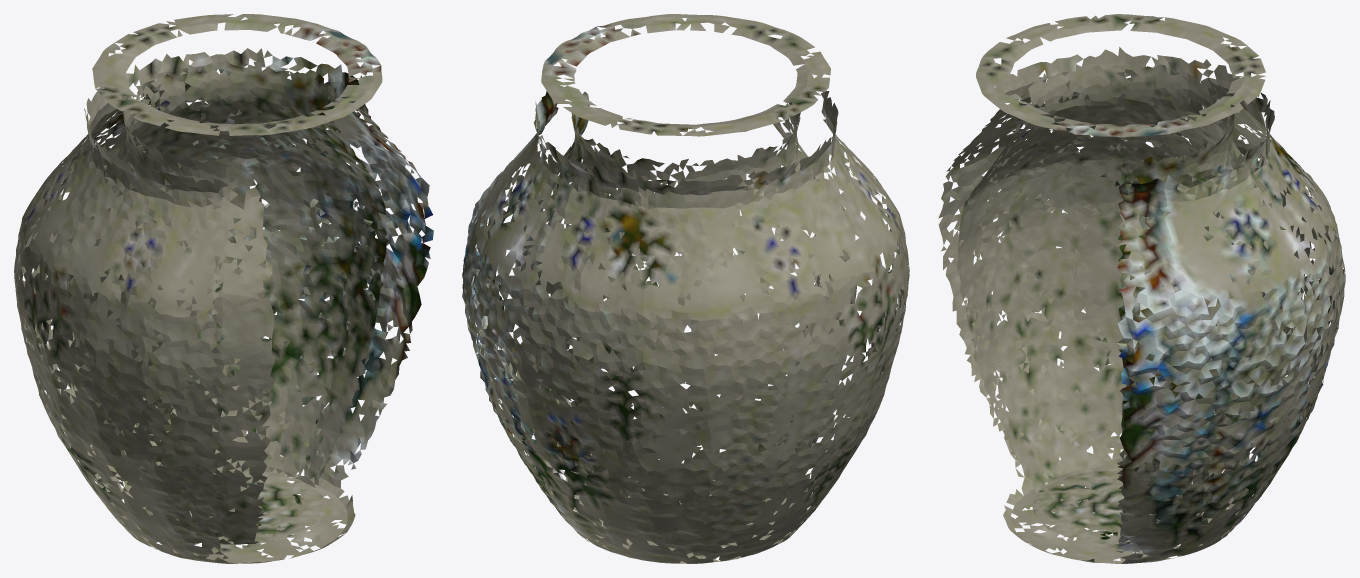
Rendered from vase2_final1000.obj.
The picture shows the model from 3 angles, left to right: view 1: azimuth 30°, elevation 25°; view 2: azimuth 150°, elevation 25°; view 3: azimuth 270°, elevation 25°; orthographic projection.
Bounding box in the file's own units: 1.58 × 1.72 × 1.43.
